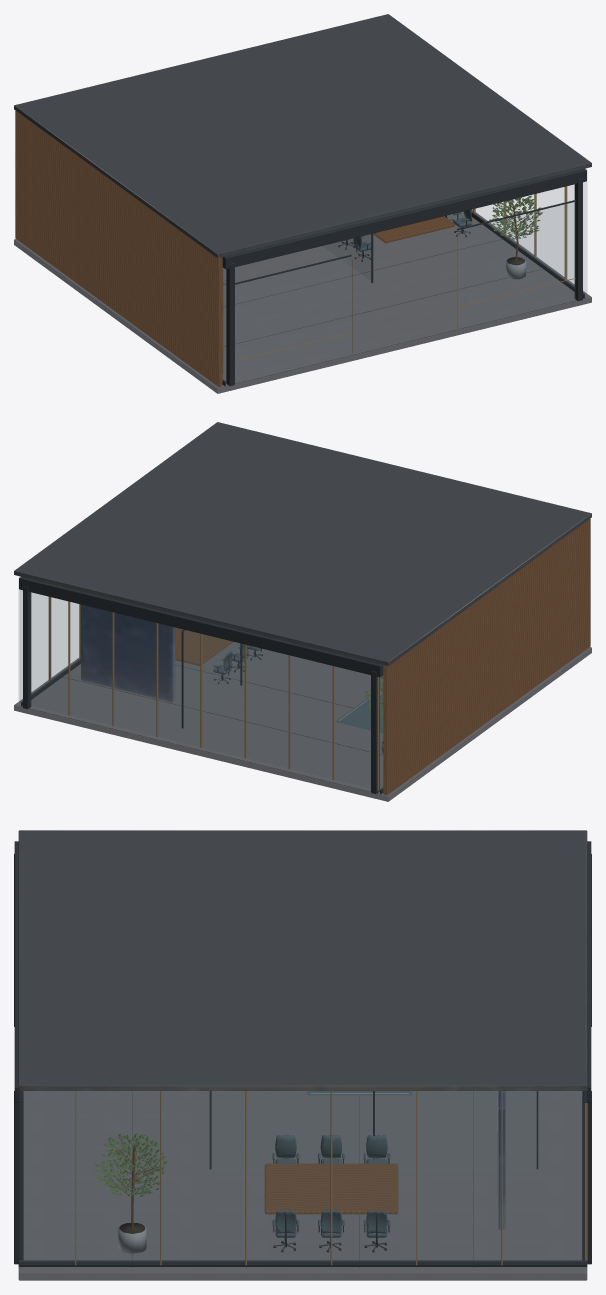
File: environment-5.glb
3 views of the same model, one above another, from view 1: azimuth 30°, elevation 25°; view 2: azimuth 150°, elevation 25°; view 3: azimuth 270°, elevation 25° (orthographic). The views are drawn at different scales.
Parts seen in each view (by area): view 1: Continuous floor slab; view 2: Continuous floor slab; view 3: Continuous floor slab.
Part boxes in pixels (<box>): Continuous floor slab: <box>14,14,591,393</box>; Continuous floor slab: <box>14,422,591,801</box>; Continuous floor slab: <box>14,830,591,1280</box>.
Size of the model in its own units: 17 by 6.06 by 16.27.
Materials: 16 (6 with a texture image).
